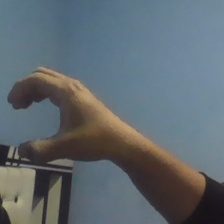C: (4, 61, 110, 166)
